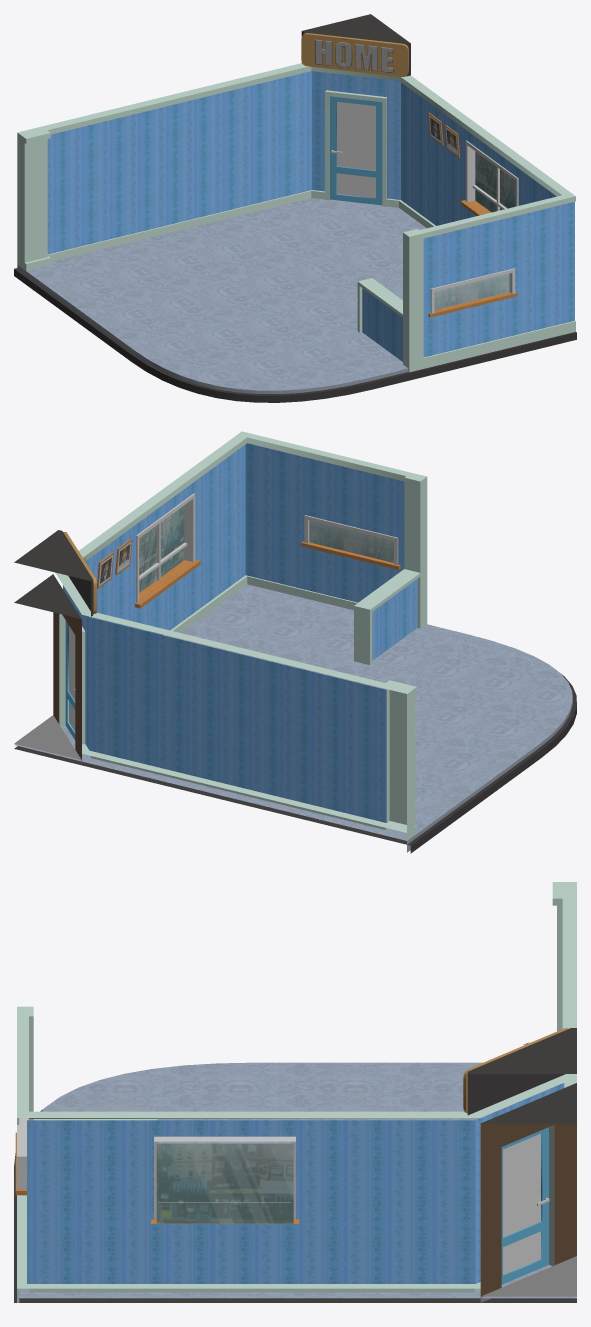
Rendered from interior_A_001.fbx.
The picture shows the model from 3 angles, top to bottom: view 1: azimuth 30°, elevation 25°; view 2: azimuth 150°, elevation 25°; view 3: azimuth 270°, elevation 25°; orthographic projection. The views are drawn at different scales.
Parts seen in each view (by area): view 1: interior_A_001; view 2: interior_A_001; view 3: interior_A_001.
Part boxes in pixels (box(x1,y1,x2,y2)): interior_A_001: box(14, 14, 576, 402); interior_A_001: box(14, 431, 576, 853); interior_A_001: box(14, 882, 576, 1302).
Size of the model in its own units: 707 by 331 by 707.
